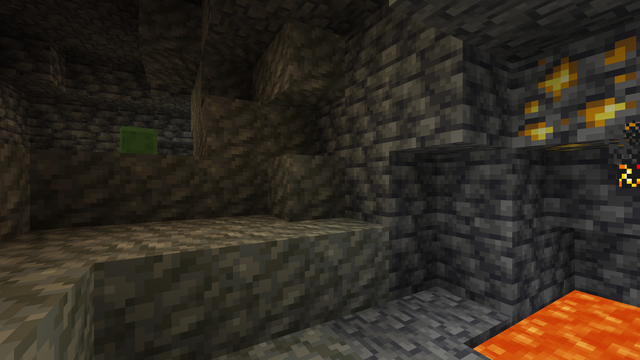slimes: (117, 124, 156, 152)
